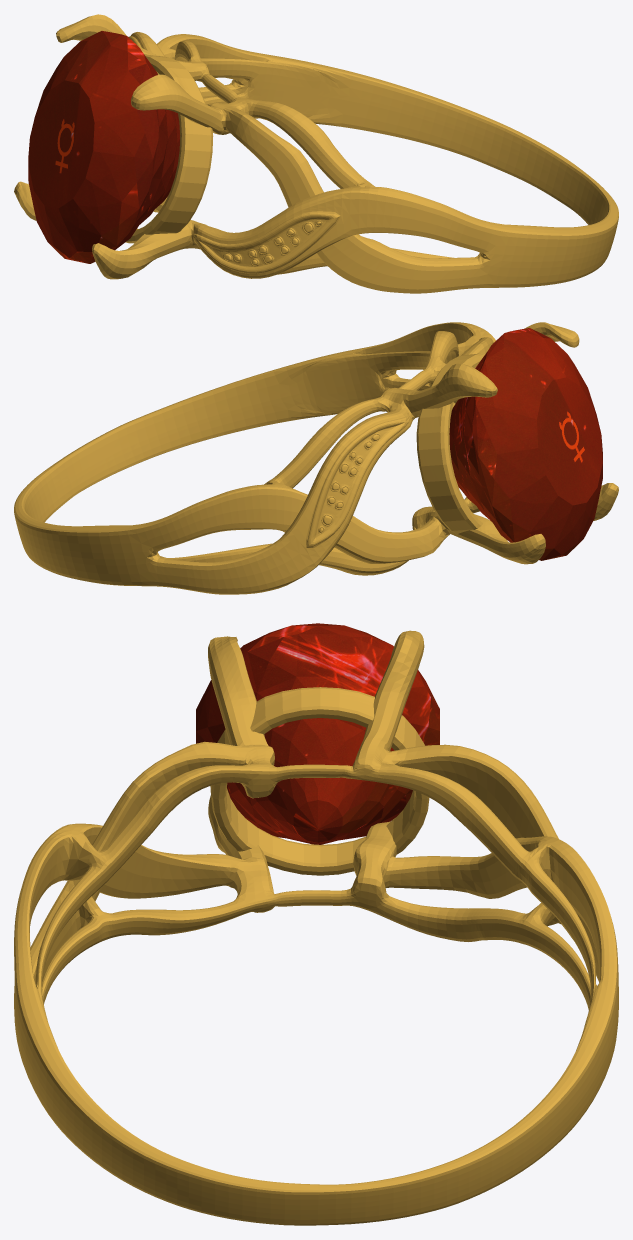
3 views of the same model, one above another, from view 1: azimuth 30°, elevation 25°; view 2: azimuth 150°, elevation 25°; view 3: azimuth 270°, elevation 25° (orthographic). The views are drawn at different scales.
Parts seen in each view (by area): view 1: Box02, Cone02; view 2: Box02, Cone02; view 3: Box02, Cone02.
Part boxes in pixels (x1=…): Box02: x1=14, y1=14, x2=618, y2=293; Cone02: x1=28, y1=31, x2=180, y2=263; Box02: x1=14, y1=322, x2=618, y2=594; Cone02: x1=449, y1=328, x2=602, y2=560; Box02: x1=14, y1=630, x2=618, y2=1225; Cone02: x1=196, y1=623, x2=439, y2=844.
Size of the model in its own units: 0.0883 by 0.0436 by 0.071.
2 materials, 2 textured.
